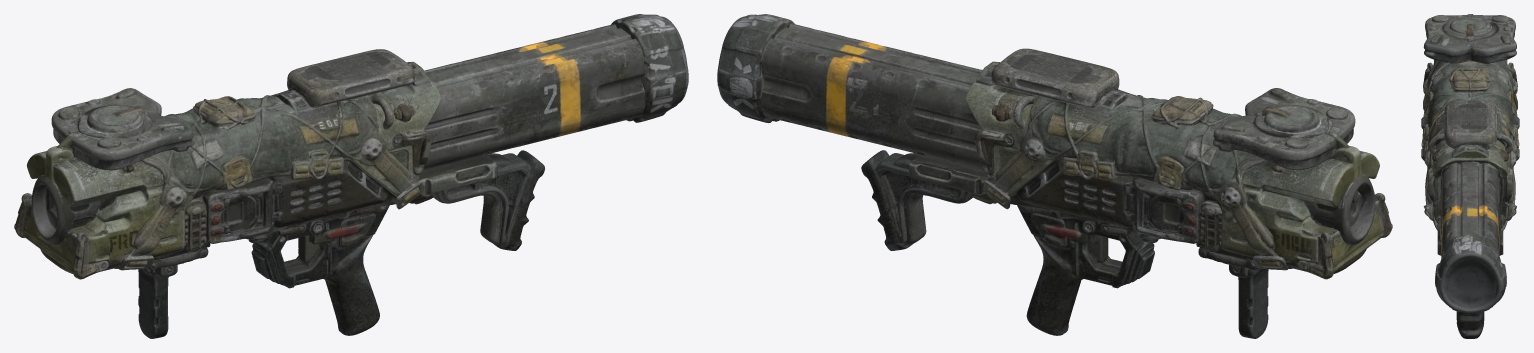
File: launcher.glb
3 views of the same model, side by side, from view 1: azimuth 30°, elevation 25°; view 2: azimuth 150°, elevation 25°; view 3: azimuth 270°, elevation 25° (orthographic). The views are drawn at different scales.
Bounding box in the file's own units: 1.9 × 0.8023 × 0.3465.
Materials: 1 (1 with a texture image).
